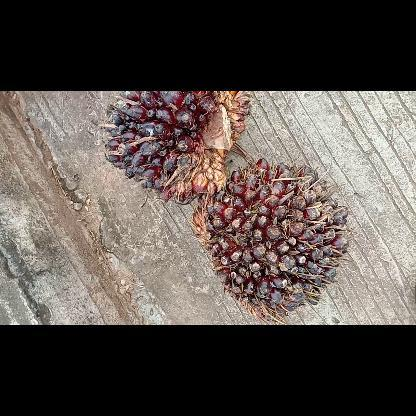TBS mentah: (188, 156, 354, 322), (102, 90, 254, 206)
